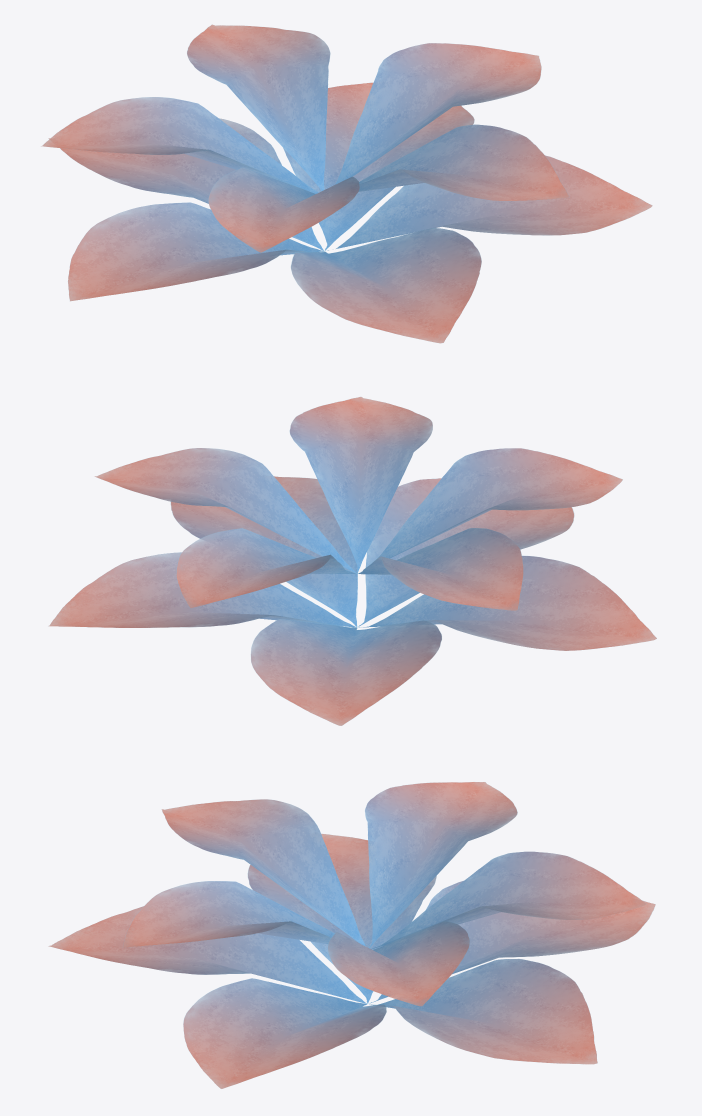
Rendered from flower.glb.
The picture shows the model from 3 angles, top to bottom: view 1: azimuth 30°, elevation 25°; view 2: azimuth 150°, elevation 25°; view 3: azimuth 270°, elevation 25°; orthographic projection. The views are drawn at different scales.
Parts seen in each view (by area): view 1: flower; view 2: flower; view 3: flower.
Boxes of the visible parts, bbox=[...] form: flower: bbox=[41, 24, 652, 343]; flower: bbox=[48, 397, 656, 725]; flower: bbox=[48, 782, 655, 1088].
Size of the model in its own units: 2.69 by 0.5814 by 2.7.
1 material, 1 textured.
